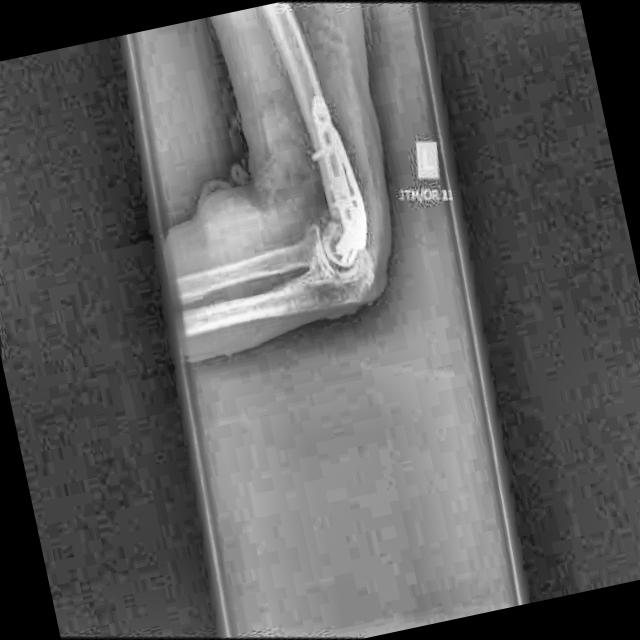elbow positive: (318, 175, 368, 254)
